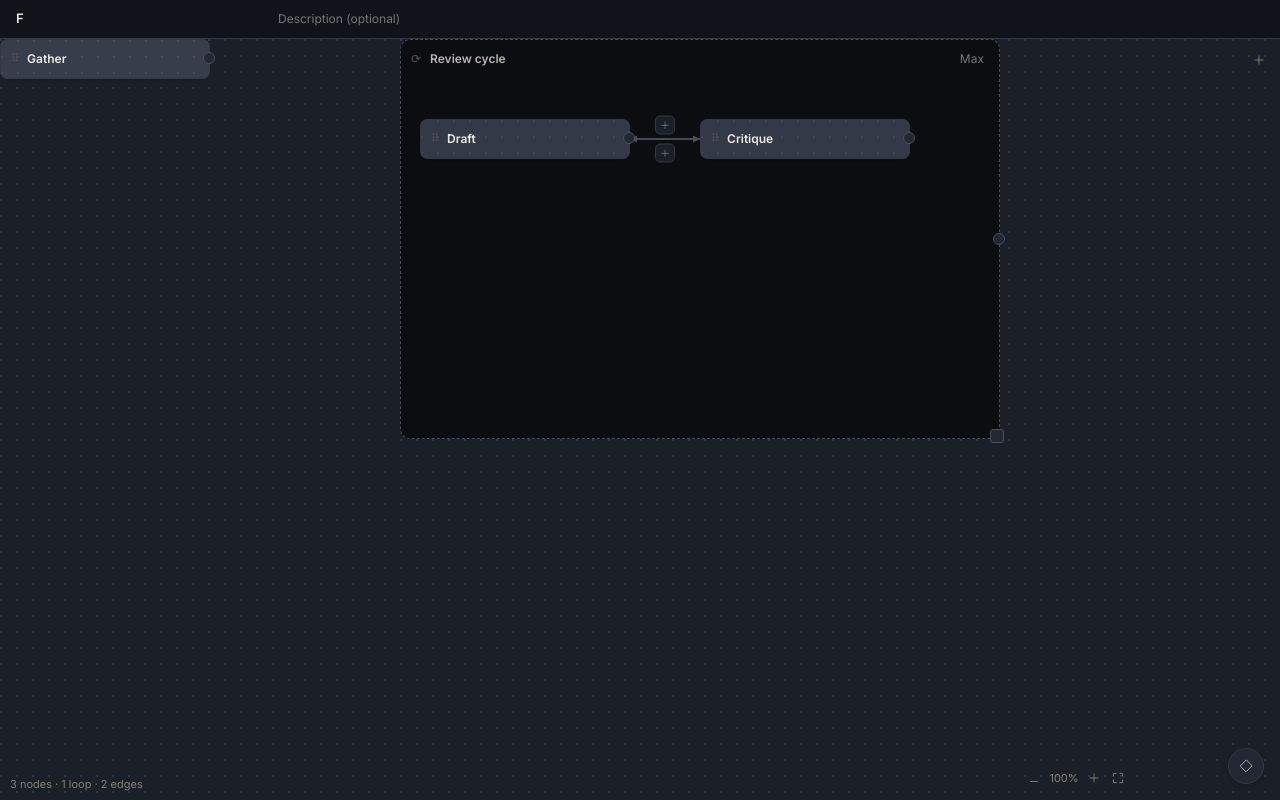
Scenario: dragging between containers (FLO-FR-42, FLO-FR-40 / FLO-FR-43 / FLO-FR-44, FLO-FR-21) › removes a loop's whole subtree when the author chooses that
Press the mouse on the element showing "⟳" at (700, 238), box [400, 38, 1000, 438]
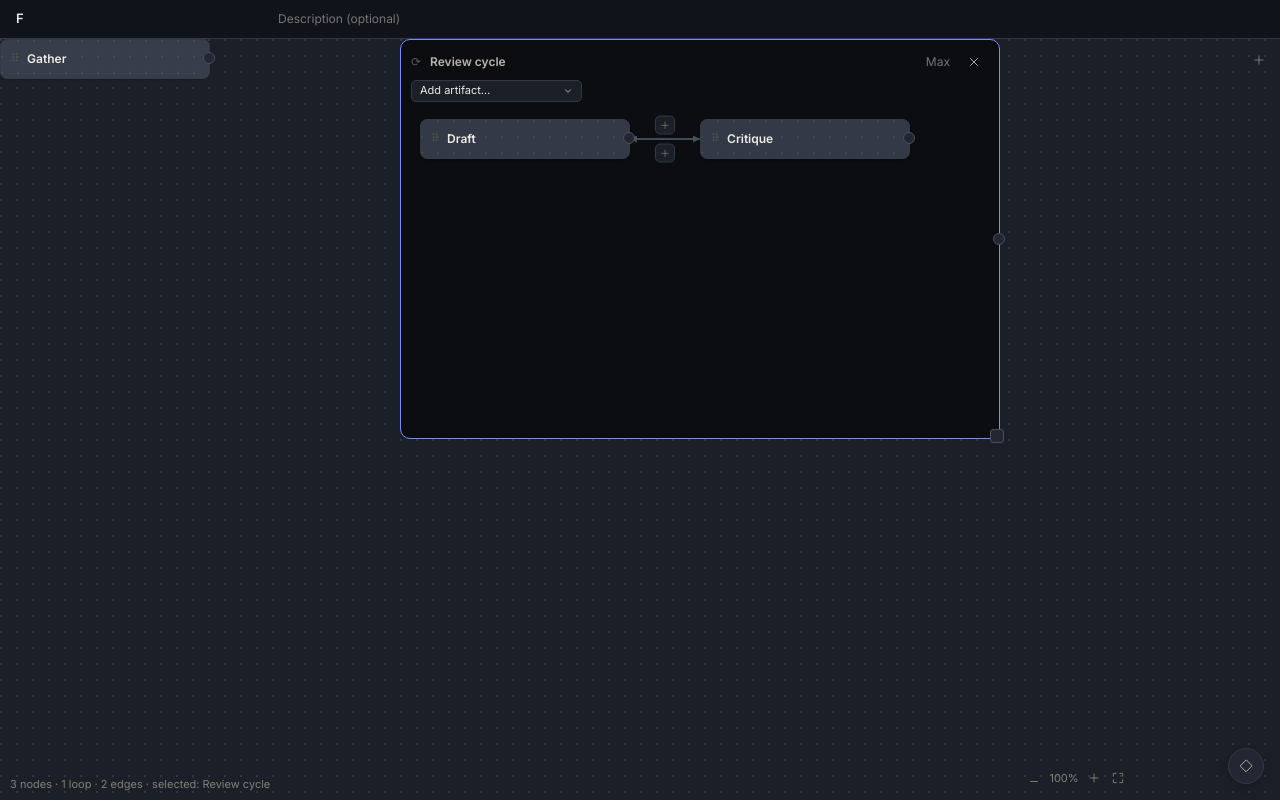
Click the button named "Remove loop Review cycle" at (974, 62), box [959, 48, 989, 76]
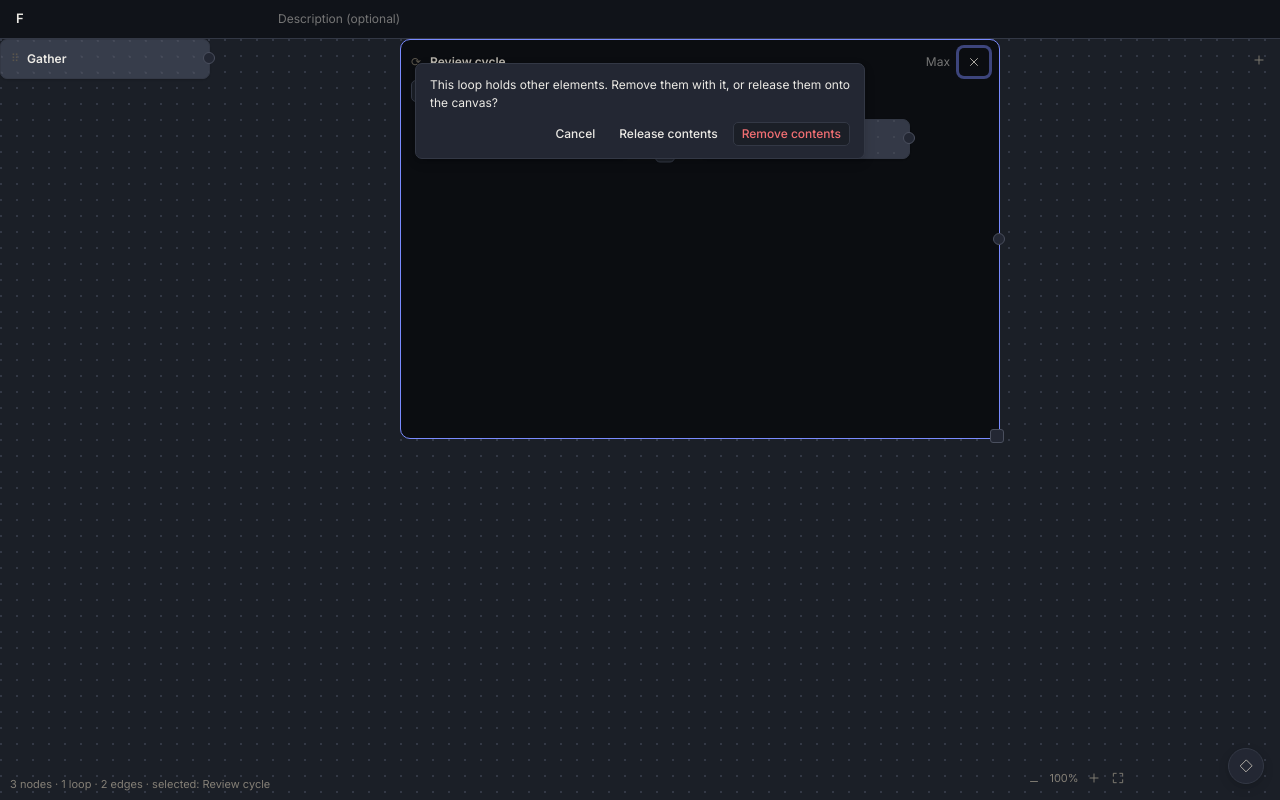
Click the button "Remove contents" at (791, 134), box [733, 122, 850, 146]
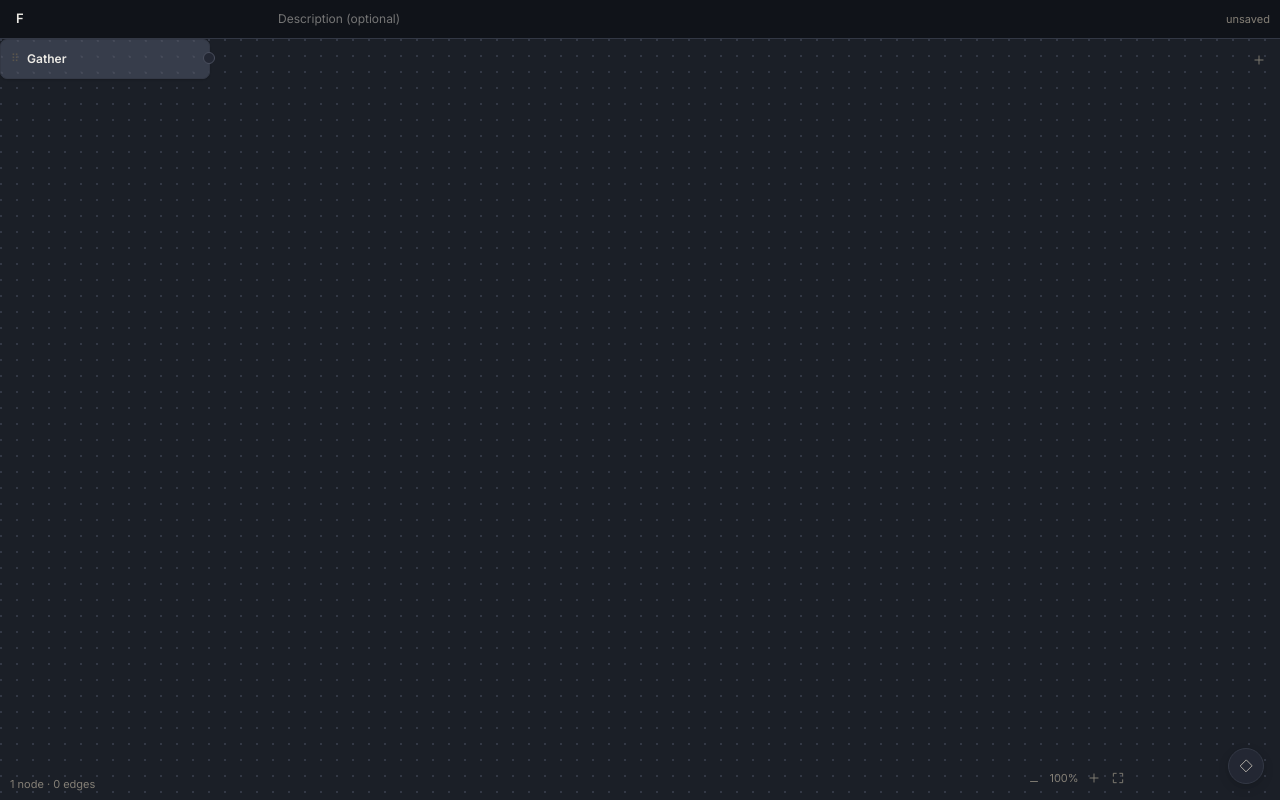
Check: the text with test id "flow-status" reads "1 node · 0 edges", box [10, 777, 95, 791]
